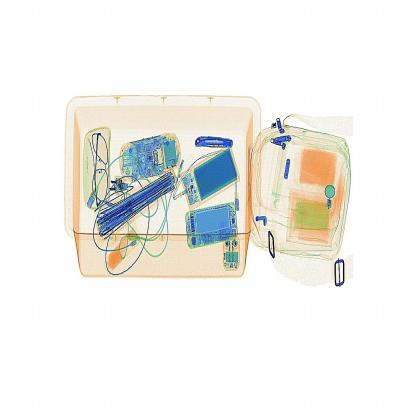knife: (182, 125, 244, 159)
